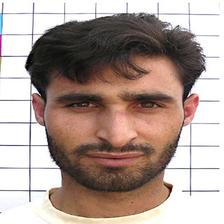no_mask: (43, 70, 185, 183)
